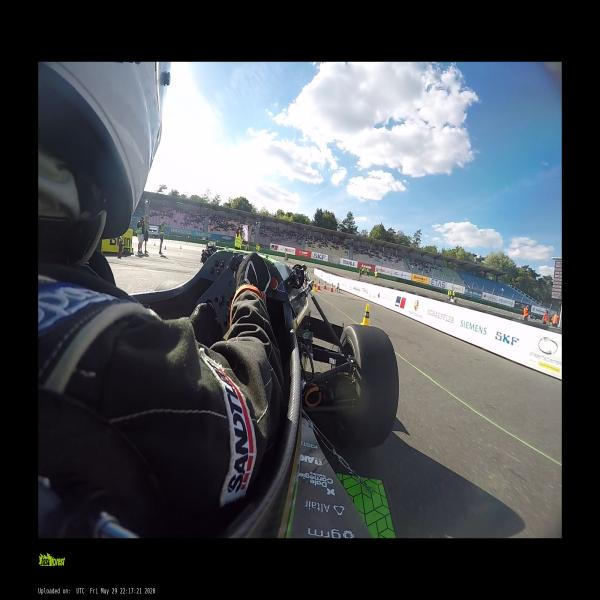blue_cone: (164, 245, 166, 250), (180, 245, 182, 249), (154, 242, 156, 246)
orange_cone: (330, 283, 334, 293), (317, 281, 321, 290), (323, 281, 327, 290)
yellow_cone: (360, 303, 370, 325), (313, 280, 317, 292)
